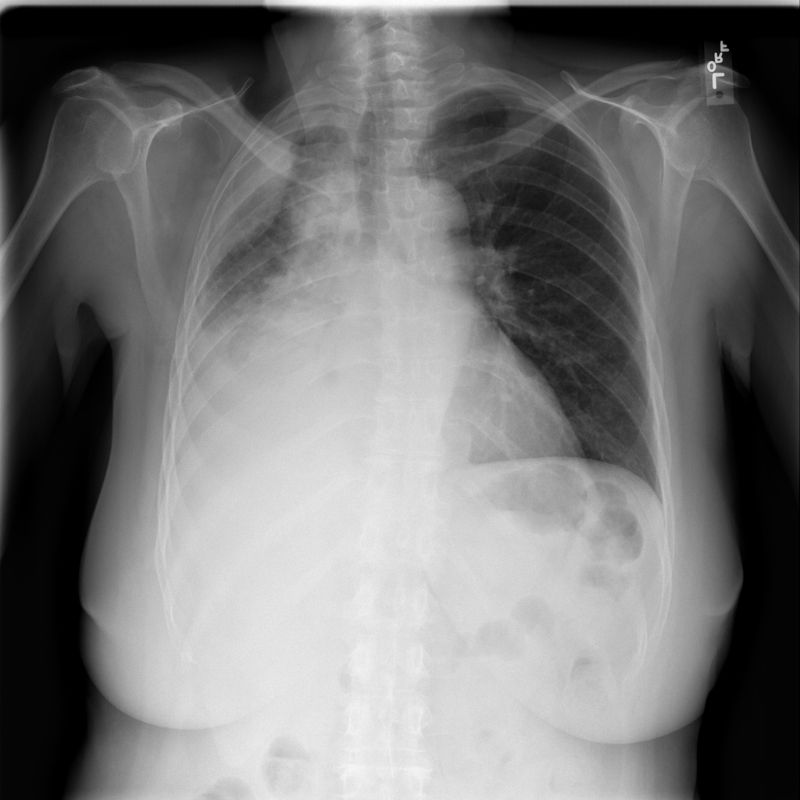PLEURAL EFFUSION: (180, 279, 305, 503)
